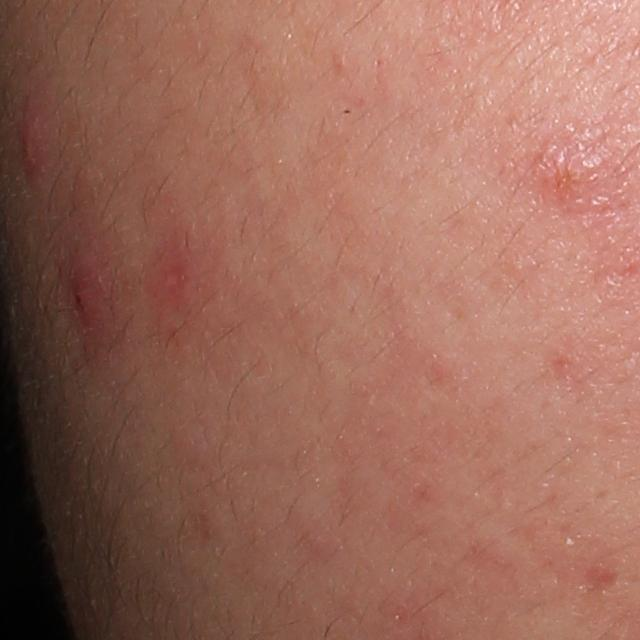atrophic_scar: (586, 568, 626, 593)
papule: (538, 143, 613, 215), (57, 267, 107, 332), (16, 100, 54, 184)
